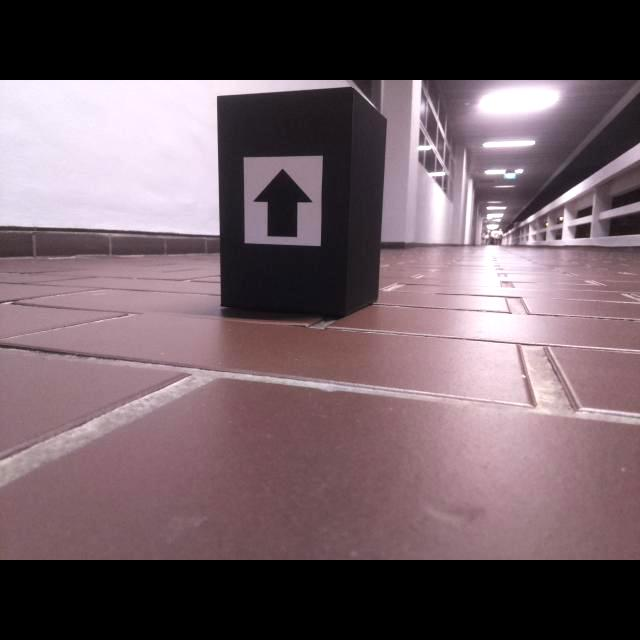UP: (252, 168, 314, 238)
